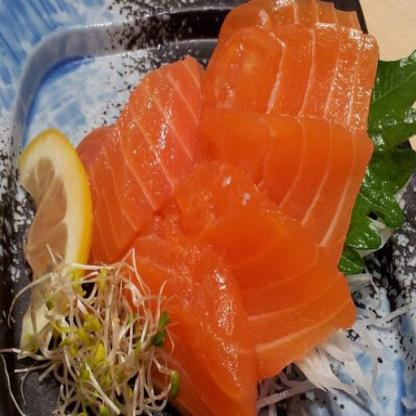salmon: (79, 0, 371, 415)
